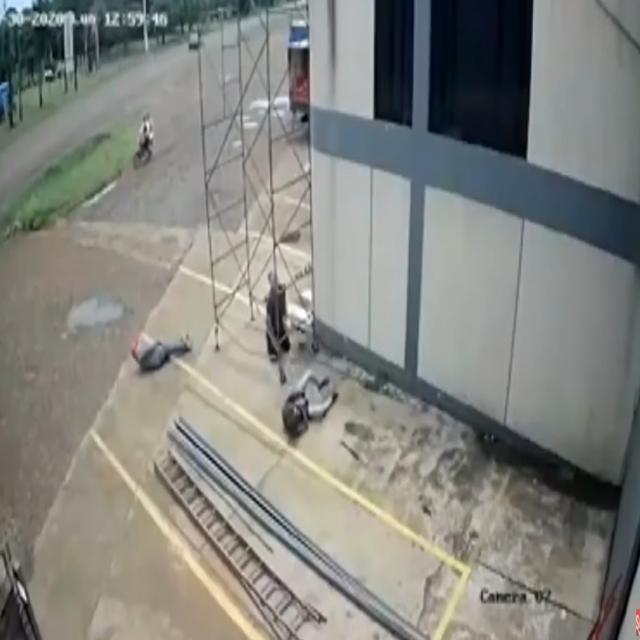fallen: (282, 369, 338, 438), (131, 333, 192, 373)
